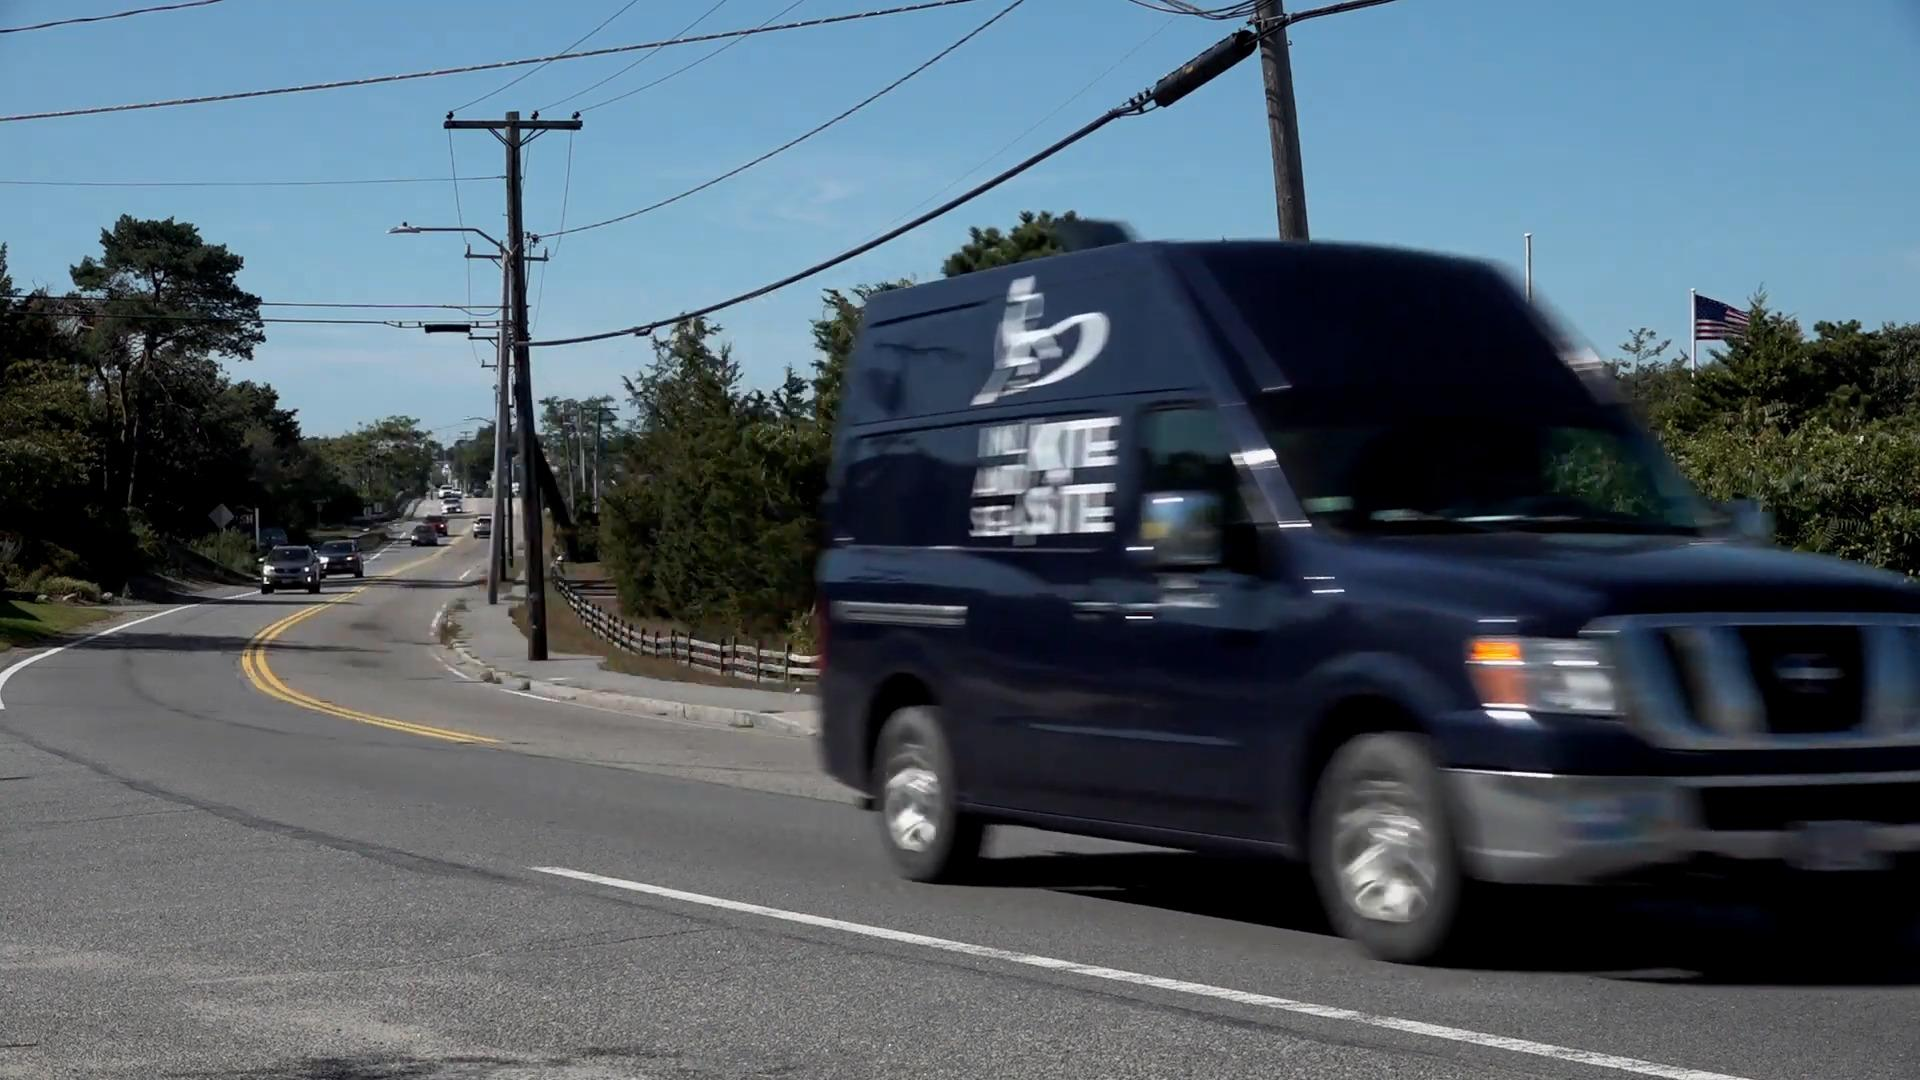minivan: (823, 237, 1920, 964)
